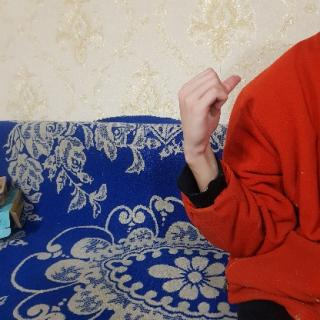WAW: (174, 61, 247, 160)
